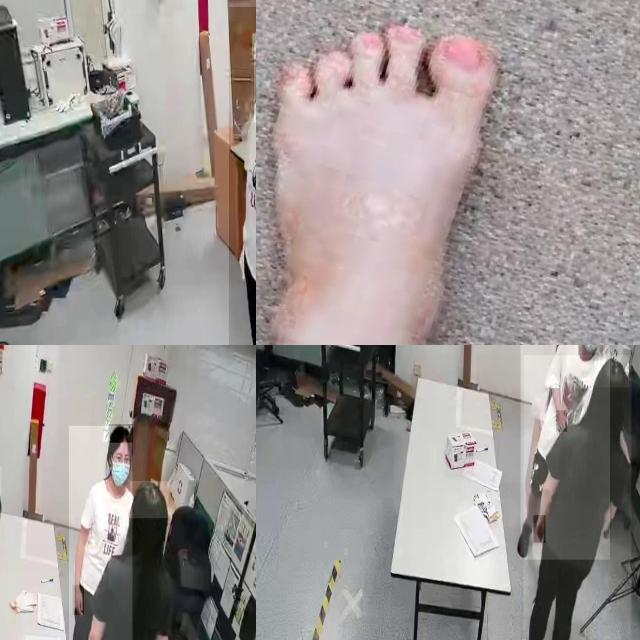Barefoots: (259, 30, 498, 345)
face_mask: (112, 436, 132, 488), (582, 345, 603, 360)
hand_noglove: (72, 585, 84, 616), (534, 515, 546, 544), (556, 410, 568, 432)
head_nohelmet: (595, 357, 629, 403), (129, 481, 169, 519), (108, 424, 134, 444)
person: (523, 355, 632, 640), (520, 345, 609, 559), (74, 471, 170, 640), (69, 426, 132, 640), (229, 6, 256, 345)
